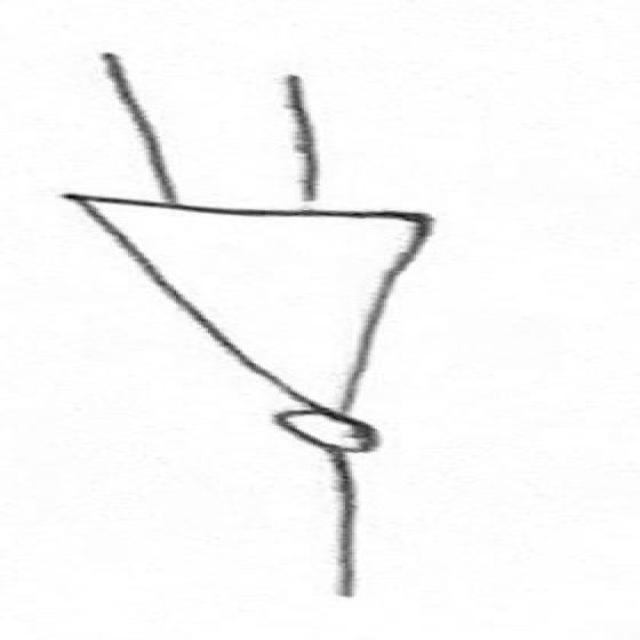NOT: (40, 175, 530, 488)
